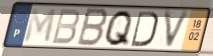B: (75, 7, 111, 49), (50, 8, 81, 46)
D: (129, 10, 160, 48)
M: (22, 7, 58, 45)
Q: (103, 9, 135, 48)
V: (162, 9, 193, 51)
